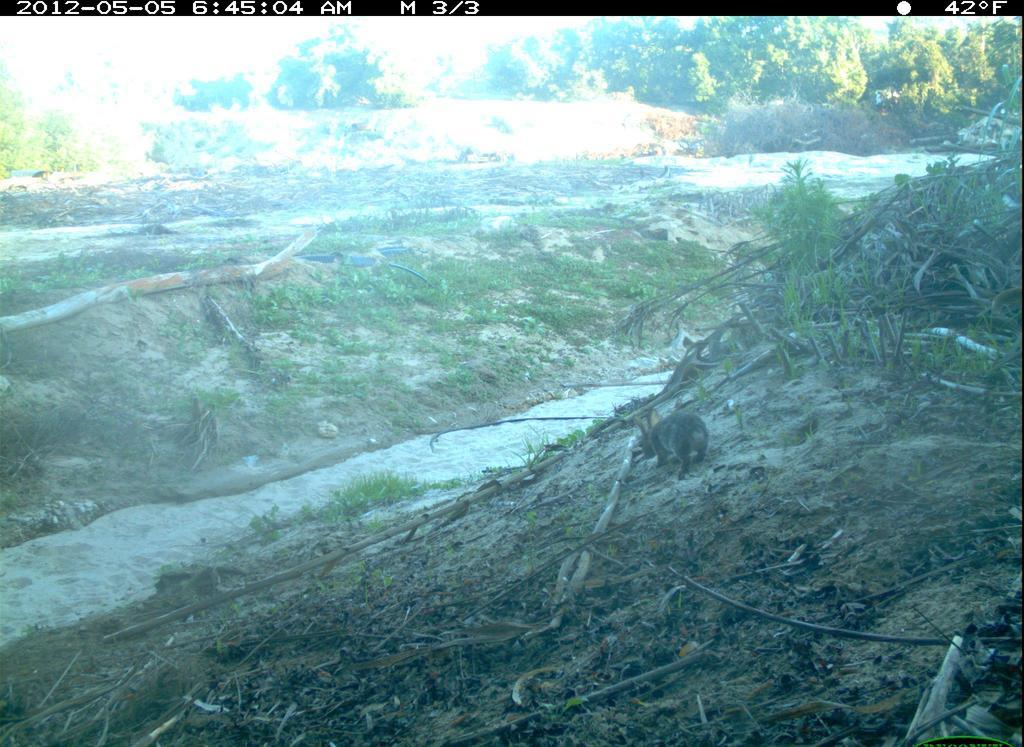rabbit: (623, 409, 716, 491)
